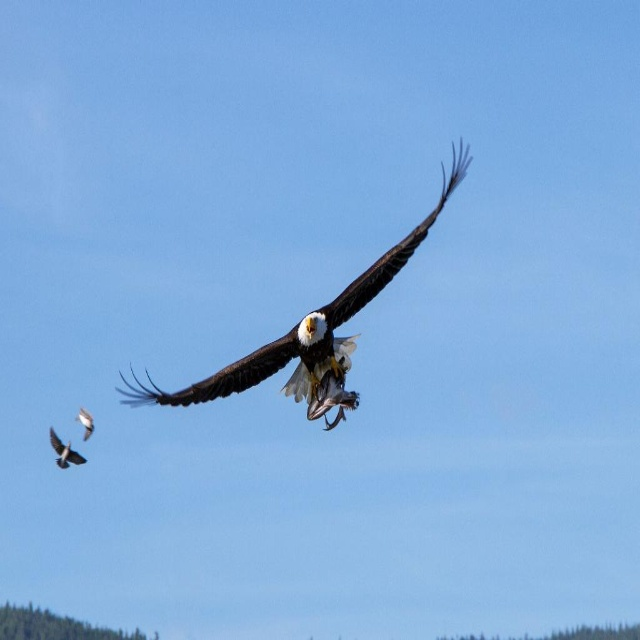Eagle: (115, 132, 475, 436), (50, 427, 88, 469)
